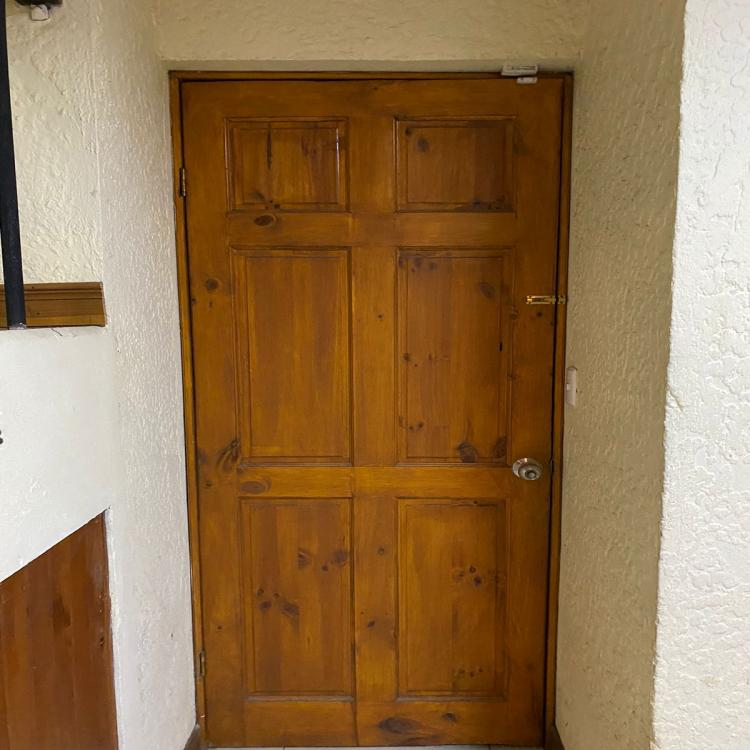ClosedDoor: (142, 48, 581, 750)
